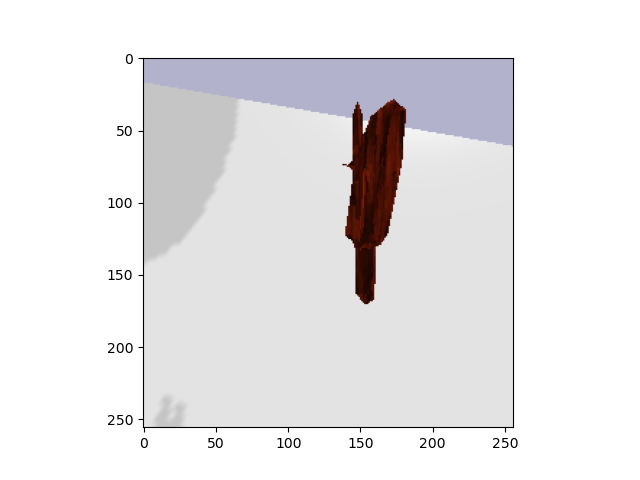v249b387_107: (329, 89, 421, 317)
